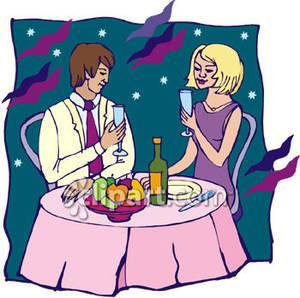bottle: (147, 137, 169, 205)
diningtable: (22, 175, 251, 297)
person: (34, 42, 135, 185), (162, 42, 242, 211)
